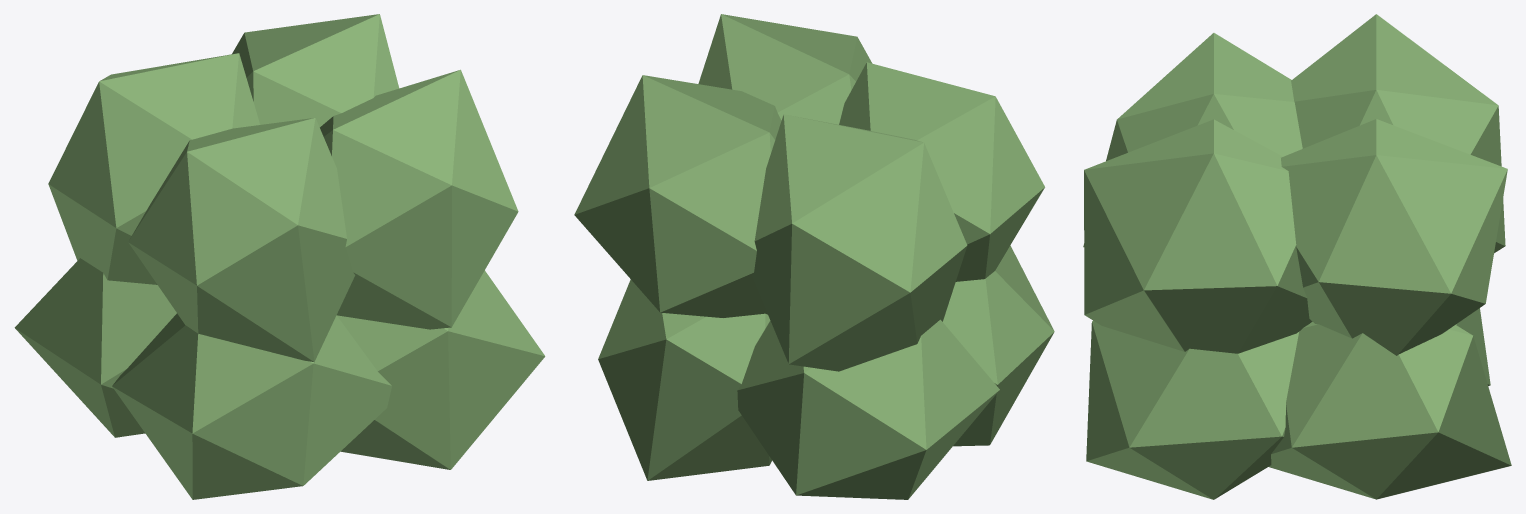
The model's file is build_ball.glb.
3 views of the same model, side by side, from view 1: azimuth 30°, elevation 25°; view 2: azimuth 150°, elevation 25°; view 3: azimuth 270°, elevation 25° (orthographic). The views are drawn at different scales.
Parts seen in each view (by area): view 1: Baked; view 2: Baked; view 3: Baked.
Boxes of the visible parts, x1=… form: Baked: x1=14, y1=14, x2=545, y2=499; Baked: x1=574, y1=14, x2=1054, y2=499; Baked: x1=1083, y1=14, x2=1511, y2=499.
Size of the model in its own units: 0.241 by 0.2279 by 0.2373.
